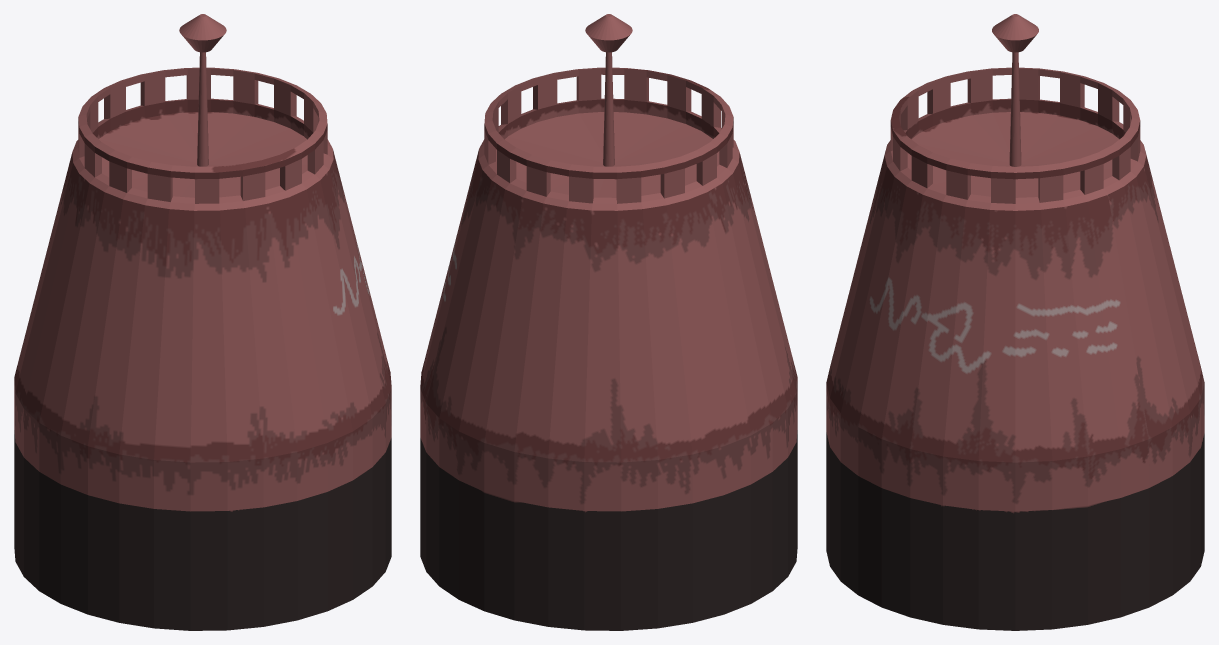
File: Buoy.fbx
3 views of the same model, side by side, from view 1: azimuth 30°, elevation 25°; view 2: azimuth 150°, elevation 25°; view 3: azimuth 270°, elevation 25° (orthographic).
Parts seen in each view (by area): view 1: Cylinder; view 2: Cylinder; view 3: Cylinder.
Part boxes in pixels (x1=…): Cylinder: x1=14, y1=14, x2=391, y2=630; Cylinder: x1=420, y1=14, x2=797, y2=630; Cylinder: x1=826, y1=14, x2=1204, y2=630.
Size of the model in its own units: 532 by 831 by 532.
